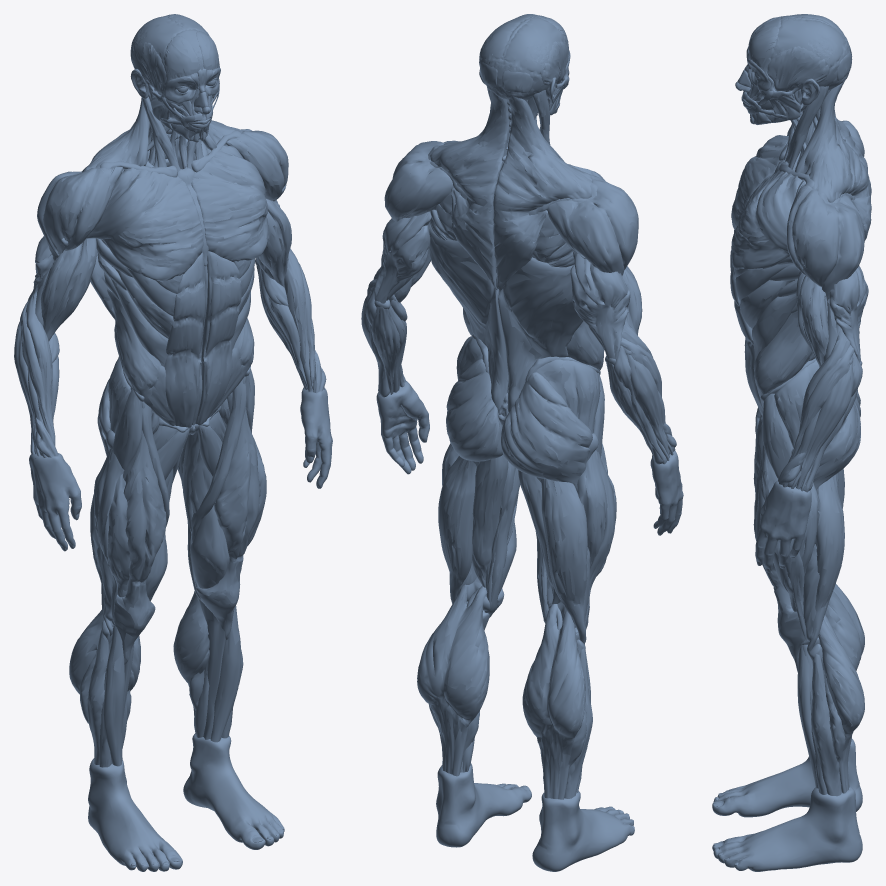
The model's file is ecorche-passe2.glb.
The picture shows the model from 3 angles, left to right: view 1: azimuth 30°, elevation 25°; view 2: azimuth 150°, elevation 25°; view 3: azimuth 270°, elevation 25°; orthographic projection.
Parts seen in each view (by area): view 1: pectoralis_major.right, pectoralis_major.left, m0_c040.right, m0_c040.left, m2_c001.left, m2_c001.right, rectus_abdominis.right, deltoid.right, rectus_abdominis.left, m2_c000.right, m0_c014.right, m0_c053.right (+42 smaller); view 2: trapezius.right, m0_c027.left, m0_c027.right, latissimus_dorsi.right, trapezius.left, m0_c043.right, deltoid.right, m2_c001.right, m0_c037.right, latissimus_dorsi.left, m2_c001.left, m0_c083__CENTRAL__ATHLETIQUE (+24 smaller); view 3: m2_c001.left, deltoid.left, trapezius.left, pectoralis_major.left, m2_c001.right, m0_c083__CENTRAL__ATHLETIQUE, m2_c000.left, m0_c027.left, m0_c037.left, m0_c053.left, m0_c040.left, m0_c032.left (+33 smaller).
Part boxes in pixels (bbox=[...]): pectoralis_major.right: bbox=[86, 167, 203, 281]; pectoralis_major.left: bbox=[191, 145, 268, 262]; m0_c040.right: bbox=[113, 401, 166, 664]; m0_c040.left: bbox=[196, 376, 260, 639]; m2_c001.left: bbox=[183, 733, 284, 849]; m2_c001.right: bbox=[88, 758, 182, 871]; rectus_abdominis.right: bbox=[164, 252, 205, 427]; deltoid.right: bbox=[37, 166, 123, 260]; rectus_abdominis.left: bbox=[195, 251, 241, 425]; m2_c000.right: bbox=[29, 453, 81, 551]; m0_c014.right: bbox=[41, 238, 96, 341]; m0_c053.right: bbox=[107, 287, 175, 425]; trapezius.right: bbox=[493, 96, 592, 290]; m0_c027.left: bbox=[417, 584, 489, 776]; m0_c027.right: bbox=[522, 604, 585, 799]; latissimus_dorsi.right: bbox=[498, 257, 583, 412]; trapezius.left: bbox=[430, 91, 510, 289]; m0_c043.right: bbox=[501, 372, 592, 488]; deltoid.right: bbox=[547, 174, 638, 275]; m2_c001.right: bbox=[532, 791, 634, 871]; m0_c037.right: bbox=[541, 478, 587, 643]; latissimus_dorsi.left: bbox=[429, 223, 507, 412]; m2_c001.left: bbox=[436, 763, 531, 847]; m0_c083__CENTRAL__ATHLETIQUE: bbox=[479, 14, 569, 99]; m2_c001.left: bbox=[712, 787, 862, 871]; deltoid.left: bbox=[787, 179, 864, 300]; trapezius.left: bbox=[795, 79, 871, 240]; pectoralis_major.left: bbox=[731, 170, 802, 269]; m2_c001.right: bbox=[712, 738, 862, 817]; m0_c083__CENTRAL__ATHLETIQUE: bbox=[744, 14, 850, 100]; m2_c000.left: bbox=[755, 480, 811, 572]; m0_c027.left: bbox=[818, 615, 864, 793]; m0_c037.left: bbox=[807, 474, 844, 654]; m0_c053.left: bbox=[753, 311, 811, 407]; m0_c040.left: bbox=[753, 441, 805, 672]; m0_c032.left: bbox=[811, 652, 841, 796].
Size of the model in its own units: 0.6798 by 1.8 by 0.3181.
